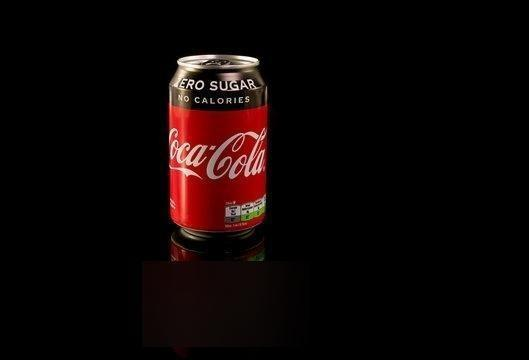tin can: (166, 52, 271, 237)
